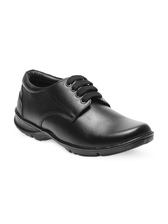shoes: (14, 67, 154, 157)
